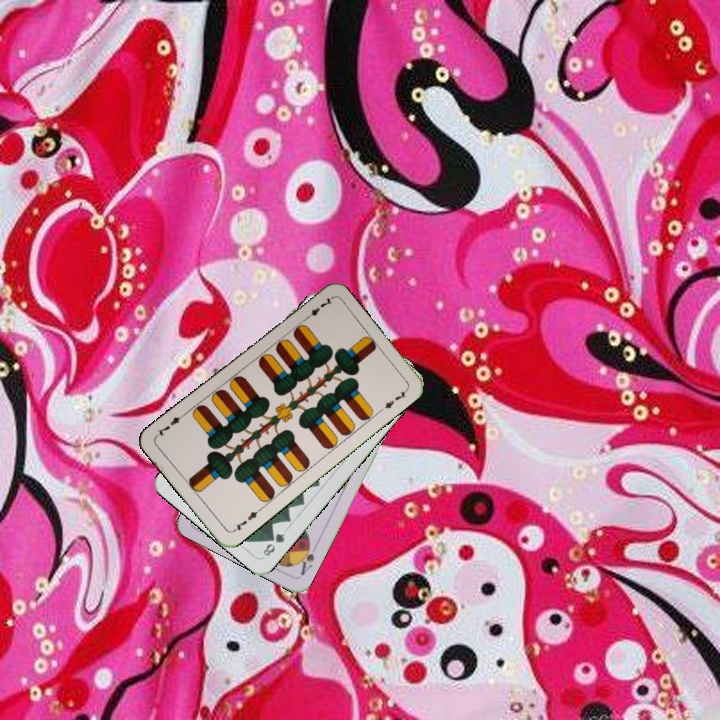E7: (229, 505, 263, 535), (300, 294, 335, 323)
G8: (259, 529, 288, 559)
SA: (294, 538, 320, 578)
